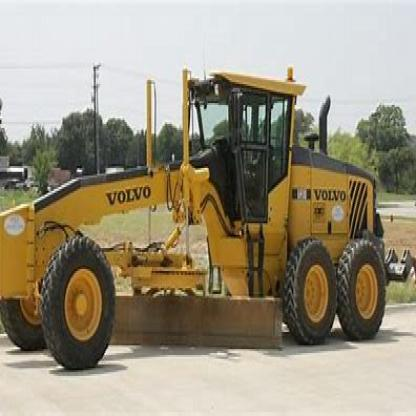bull_dozer/loader/grader: (0, 44, 400, 372)
